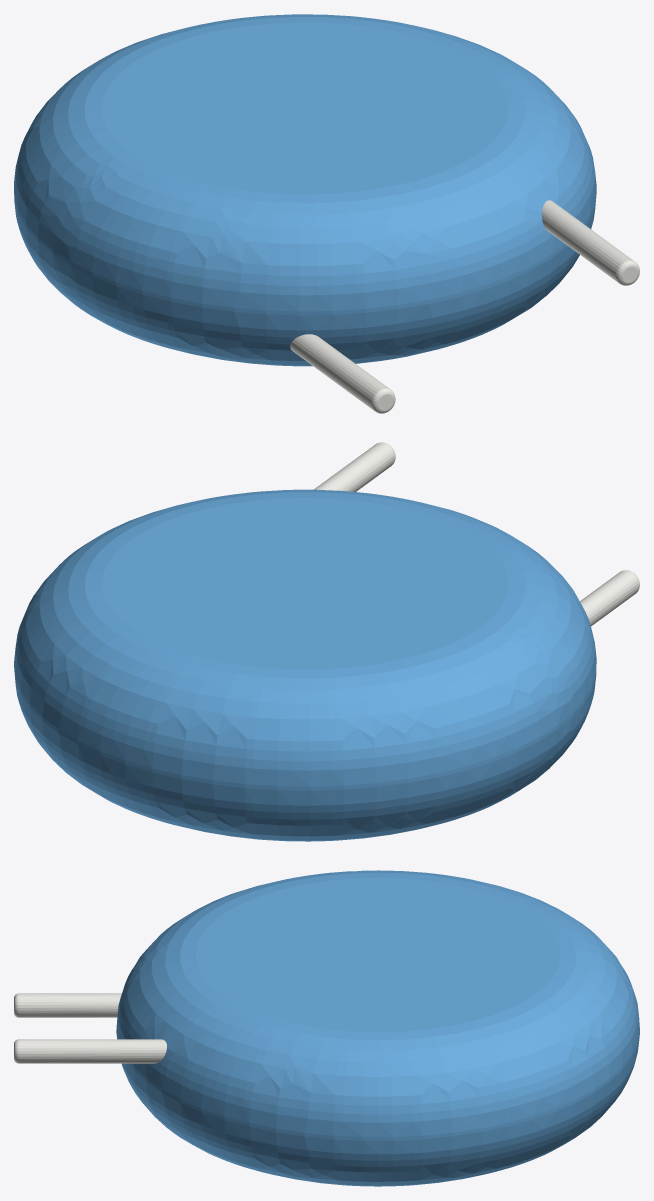
File: RV_Disc_D15.5mm_W4.8mm_P7.5mm.glb
3 renders of one model, top to bottom at view 1: azimuth 30°, elevation 25°; view 2: azimuth 150°, elevation 25°; view 3: azimuth 270°, elevation 25°, orthographic. The views are drawn at different scales.
Parts seen in each view (by area): view 1: Shape_IndexedFaceSet.001, Shape_IndexedFaceSet.003, Shape_IndexedFaceSet.002, Shape_IndexedFaceSet.006, Shape_IndexedFaceSet, Shape_IndexedFaceSet.004; view 2: Shape_IndexedFaceSet.001, Shape_IndexedFaceSet.003, Shape_IndexedFaceSet.002, Shape_IndexedFaceSet, Shape_IndexedFaceSet.004, Shape_IndexedFaceSet.006; view 3: Shape_IndexedFaceSet.001, Shape_IndexedFaceSet.003, Shape_IndexedFaceSet.002, Shape_IndexedFaceSet.004, Shape_IndexedFaceSet.006, Shape_IndexedFaceSet.
Part boxes in pixels (x1,y1,x2,y2): Shape_IndexedFaceSet.001: [14, 14, 596, 311]; Shape_IndexedFaceSet.003: [102, 22, 508, 194]; Shape_IndexedFaceSet.002: [14, 194, 596, 366]; Shape_IndexedFaceSet.006: [290, 334, 389, 410]; Shape_IndexedFaceSet: [14, 190, 596, 315]; Shape_IndexedFaceSet.004: [542, 200, 633, 282]; Shape_IndexedFaceSet.001: [14, 489, 596, 786]; Shape_IndexedFaceSet.003: [102, 498, 508, 669]; Shape_IndexedFaceSet.002: [14, 671, 595, 841]; Shape_IndexedFaceSet: [14, 660, 596, 790]; Shape_IndexedFaceSet.004: [314, 442, 394, 491]; Shape_IndexedFaceSet.006: [580, 570, 639, 626]; Shape_IndexedFaceSet.001: [116, 870, 639, 1137]; Shape_IndexedFaceSet.003: [196, 877, 560, 1032]; Shape_IndexedFaceSet.002: [116, 1034, 639, 1186]; Shape_IndexedFaceSet.004: [19, 1039, 166, 1063]; Shape_IndexedFaceSet.006: [19, 993, 121, 1017]; Shape_IndexedFaceSet: [116, 1030, 639, 1140].
Size of the model in its own units: 6.1 by 1.89 by 7.29.
